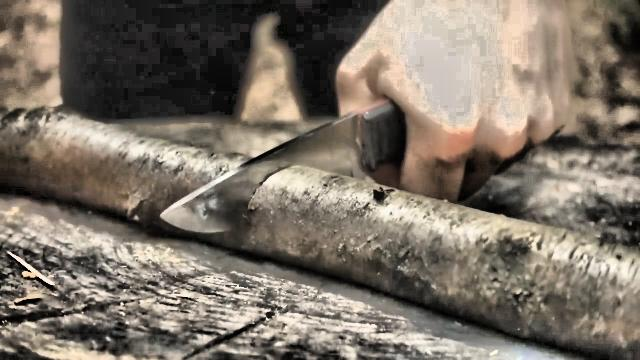knife: (147, 72, 446, 244)
